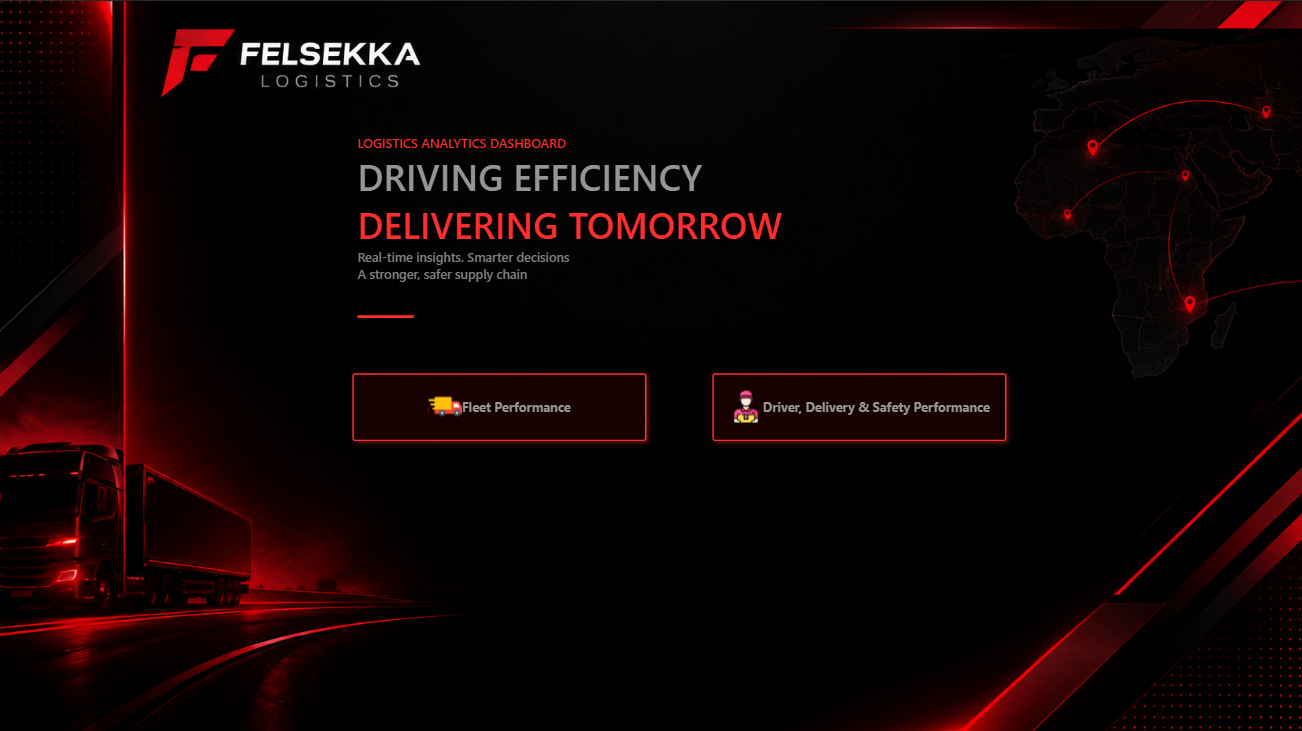

What the dashboard file says about the page in this screenshot:
{"tool":"powerbi","page":{"name":"Overview","canvas":[1920,1080],"ordinal":0},"visuals":[{"type":"actionButton","box":[509.8,539.2,451,117.6],"z":0},{"type":"actionButton","box":[1039.2,539.2,451,117.6],"z":1000},{"type":"textbox","box":[526.4,196.9,857.7,312.9],"z":2000},{"type":"shape","box":[526.4,314.7,82.8,300],"z":3000}]}

Visuals, with their boxes in screenshot pixels (x1, y1, x2, y2), scaled from the page's 1920x1080 canvas onto the 1302x731 screenshot:
actionButton: <region>346, 365, 652, 445</region>
actionButton: <region>705, 365, 1011, 445</region>
textbox: <region>357, 133, 939, 345</region>
shape: <region>357, 213, 413, 416</region>
